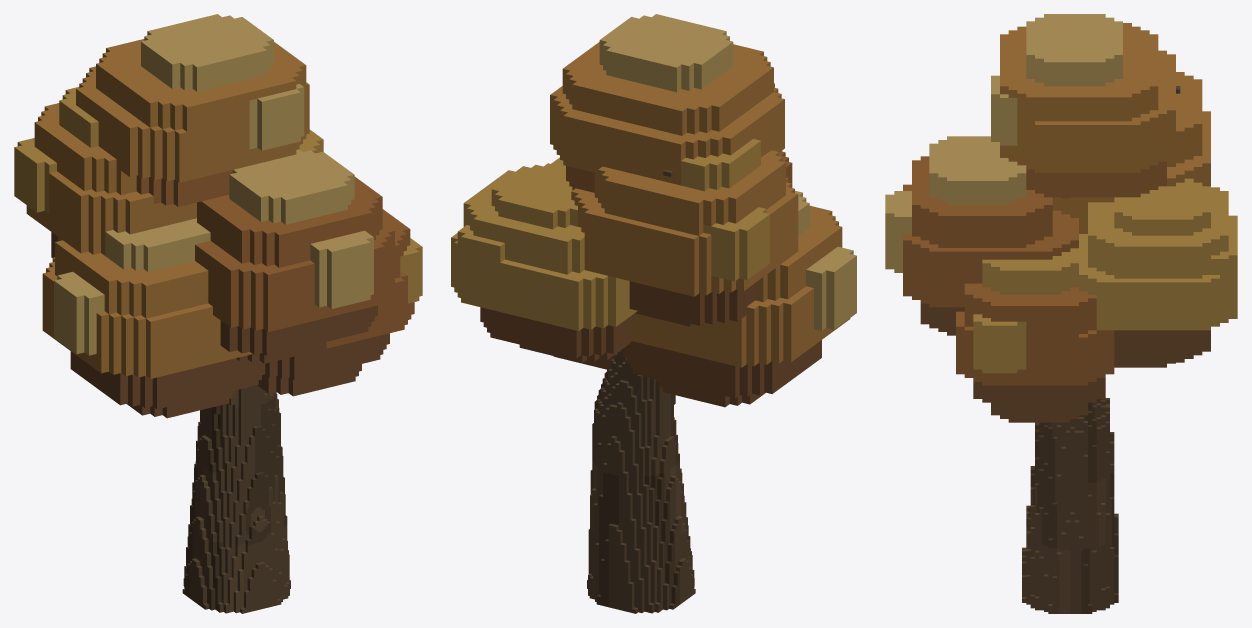
The model's file is oak_mature_autumn_2.glb.
3 views of the same model, side by side, from view 1: azimuth 30°, elevation 25°; view 2: azimuth 150°, elevation 25°; view 3: azimuth 270°, elevation 25° (orthographic). The views are drawn at different scales.
Parts seen in each view (by area): view 1: VoxelVisual; view 2: VoxelVisual; view 3: VoxelVisual.
Part boxes in pixels (bbox=[...]): VoxelVisual: bbox=[14, 14, 422, 613]; VoxelVisual: bbox=[451, 14, 856, 613]; VoxelVisual: bbox=[885, 14, 1237, 613].
Size of what is drawn, in the model's own units: 10.5 by 17 by 10.
